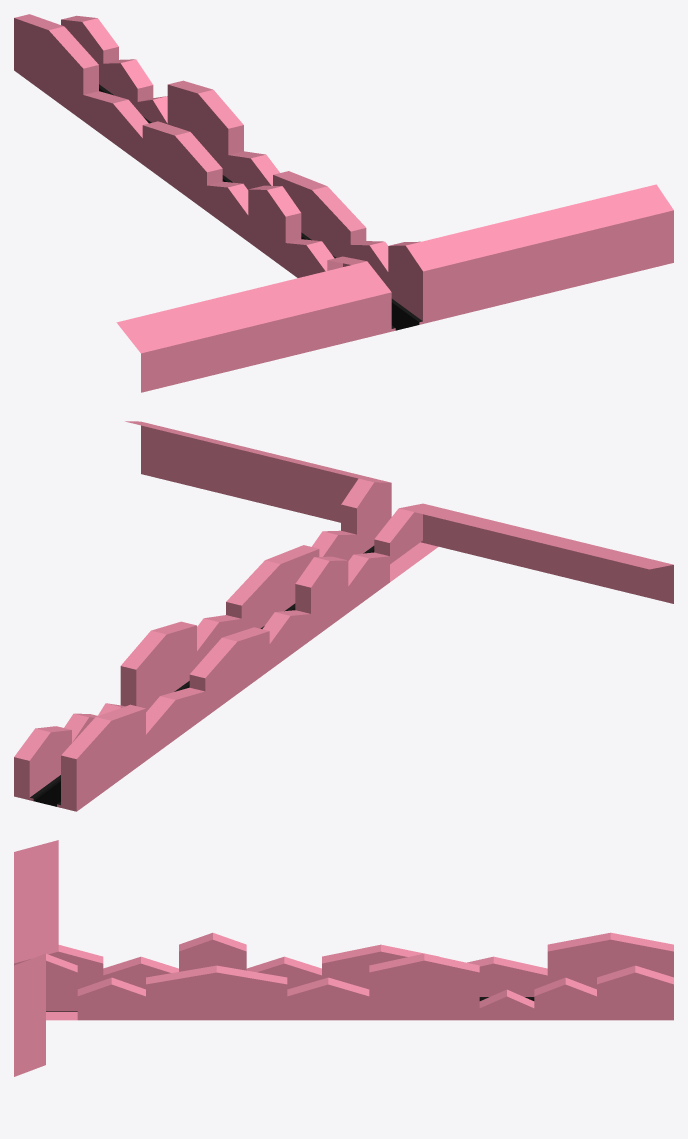
Rendered from road.obj.
The picture shows the model from 3 angles, top to bottom: view 1: azimuth 30°, elevation 25°; view 2: azimuth 150°, elevation 25°; view 3: azimuth 270°, elevation 25°; orthographic projection. The views are drawn at different scales.
Visible parts, largest first — view 1: Road; view 2: Road; view 3: Road.
Boxes of the visible parts, left/top/right/bottom form: Road: left=14, top=14, right=673, bottom=392; Road: left=14, top=421, right=673, bottom=811; Road: left=14, top=840, right=673, bottom=1076.
Bounding box in the file's own units: 42.5 × 5 × 50.
